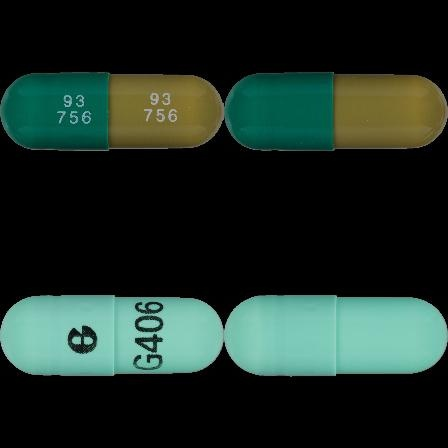21695-520: (0, 0, 224, 224)
